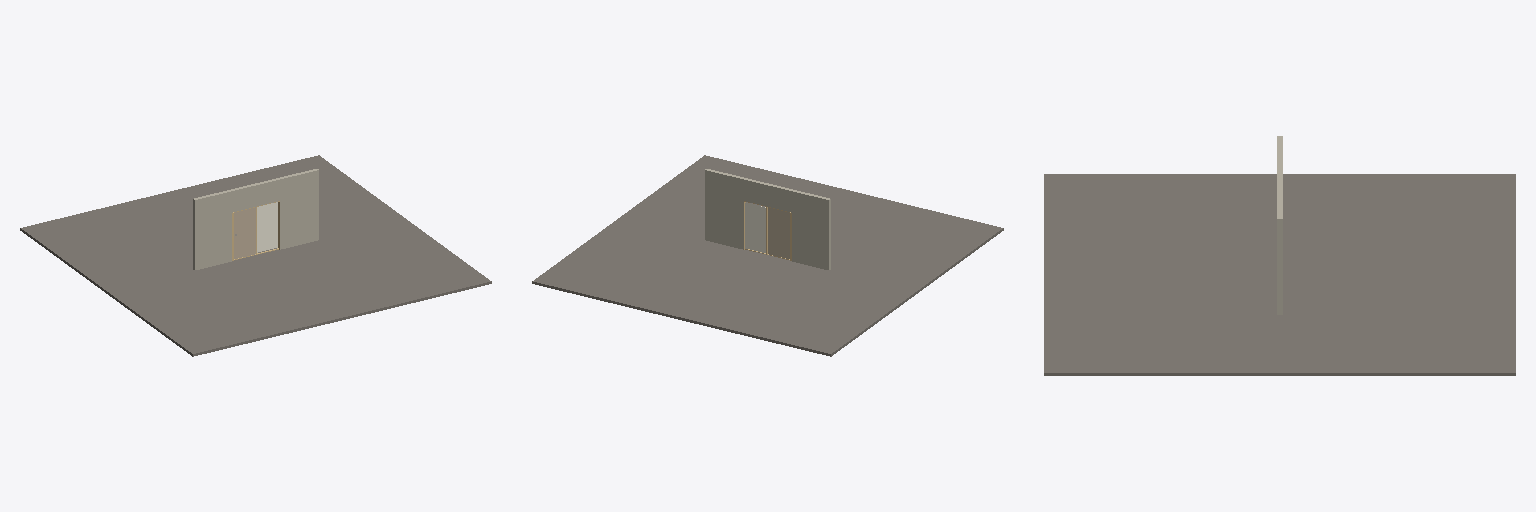
URDF robot description (db0739_sliding_single_simple):
<?xml version="1.0" ?>
<robot xmlns:doorbench="https://github.com/adamraudonis/DoorBench/schema/urdf-ext" name="db0739_sliding_single_simple">
  <link name="world_env">
    <visual name="floor_vis">
      <origin xyz="0 0 -0.05" rpy="0 0 0"/>
      <geometry>
        <box size="12 12 0.1"/>
      </geometry>
      <material name="mat_floor"/>
    </visual>
    <collision name="floor_col">
      <origin xyz="0 0 -0.05" rpy="0 0 0"/>
      <geometry>
        <box size="12 12 0.1"/>
      </geometry>
    </collision>
    <visual name="wall_left_vis">
      <origin xyz="-1.7445 0 1.35" rpy="0 0 0"/>
      <geometry>
        <box size="1.511 0.145 2.7"/>
      </geometry>
      <material name="mat_wall"/>
    </visual>
    <collision name="wall_left_col">
      <origin xyz="-1.7445 0 1.35" rpy="0 0 0"/>
      <geometry>
        <box size="1.511 0.145 2.7"/>
      </geometry>
    </collision>
    <visual name="wall_right_vis">
      <origin xyz="1.7145 0 1.35" rpy="0 0 0"/>
      <geometry>
        <box size="1.571 0.145 2.7"/>
      </geometry>
      <material name="mat_wall"/>
    </visual>
    <collision name="wall_right_col">
      <origin xyz="1.7145 0 1.35" rpy="0 0 0"/>
      <geometry>
        <box size="1.571 0.145 2.7"/>
      </geometry>
    </collision>
    <visual name="wall_header_vis">
      <origin xyz="-0.03 0 2.2895" rpy="0 0 0"/>
      <geometry>
        <box size="1.918 0.145 0.821"/>
      </geometry>
      <material name="mat_wall"/>
    </visual>
    <collision name="wall_header_col">
      <origin xyz="-0.03 0 2.2895" rpy="0 0 0"/>
      <geometry>
        <box size="1.918 0.145 0.821"/>
      </geometry>
    </collision>
    <visual name="jamb_r_vis">
      <origin xyz="0.9195 0 0.93" rpy="0 0 0"/>
      <geometry>
        <box size="0.019 0.145 1.86"/>
      </geometry>
      <material name="mat_frame"/>
    </visual>
    <collision name="jamb_r_col">
      <origin xyz="0.9195 0 0.93" rpy="0 0 0"/>
      <geometry>
        <box size="0.019 0.145 1.86"/>
      </geometry>
    </collision>
    <visual name="jamb_head_vis">
      <origin xyz="0 0 1.8695" rpy="0 0 0"/>
      <geometry>
        <box size="1.858 0.145 0.019"/>
      </geometry>
      <material name="mat_frame"/>
    </visual>
    <collision name="jamb_head_col">
      <origin xyz="0 0 1.8695" rpy="0 0 0"/>
      <geometry>
        <box size="1.858 0.145 0.019"/>
      </geometry>
    </collision>
    <visual name="fixed_panel_glass_vis">
      <origin xyz="0.455 0.04 0.93" rpy="0 0 0"/>
      <geometry>
        <box size="0.87 0.006 1.76"/>
      </geometry>
      <material name="mat_fixed_shoji"/>
    </visual>
    <collision name="fixed_panel_glass_col">
      <origin xyz="0.455 0.04 0.93" rpy="0 0 0"/>
      <geometry>
        <box size="0.87 0.006 1.76"/>
      </geometry>
    </collision>
    <visual name="fixed_panel_stile_vis">
      <origin xyz="0.03 0.04 0.93" rpy="0 0 0"/>
      <geometry>
        <box size="0.06 0.024 1.86"/>
      </geometry>
      <material name="mat_frame"/>
    </visual>
    <collision name="fixed_panel_stile_col">
      <origin xyz="0.03 0.04 0.93" rpy="0 0 0"/>
      <geometry>
        <box size="0.06 0.024 1.86"/>
      </geometry>
    </collision>
    <visual name="shikii_vis">
      <origin xyz="-0.005 0 0.012" rpy="0 0 0"/>
      <geometry>
        <box size="1.9 0.05 0.024"/>
      </geometry>
      <material name="mat_shikii"/>
    </visual>
    <collision name="shikii_col">
      <origin xyz="-0.005 0 0.012" rpy="0 0 0"/>
      <geometry>
        <box size="1.9 0.05 0.024"/>
      </geometry>
    </collision>
    <visual name="kamoi_vis">
      <origin xyz="-0.005 0 1.89" rpy="0 0 0"/>
      <geometry>
        <box size="1.9 0.05 0.06"/>
      </geometry>
      <material name="mat_shikii"/>
    </visual>
    <collision name="kamoi_col">
      <origin xyz="-0.005 0 1.89" rpy="0 0 0"/>
      <geometry>
        <box size="1.9 0.05 0.06"/>
      </geometry>
    </collision>
    <visual name="jamb_latch_0_vis">
      <origin xyz="-0.9495 0 0.93" rpy="0 0 0"/>
      <geometry>
        <box size="0.079 0.145 1.86"/>
      </geometry>
      <material name="mat_frame"/>
    </visual>
    <collision name="jamb_latch_0_col">
      <origin xyz="-0.9495 0 0.93" rpy="0 0 0"/>
      <geometry>
        <box size="0.079 0.145 1.86"/>
      </geometry>
    </collision>
  </link>
  <link name="leaf">
    <inertial>
      <origin xyz="-0.000046 -0.000002 0.927003" rpy="0 0 0"/>
      <mass value="39.08"/>
      <inertia ixx="10.553181906" ixy="-0.000028036" ixz="0.000041602" iyy="13.188463096" iyz="0.000001791" izz="2.641144851"/>
    </inertial>
    <visual name="leaf_slab_vis">
      <origin xyz="0 0 0.927" rpy="0 0 0"/>
      <geometry>
        <box size="0.9 0.03 1.8"/>
      </geometry>
      <material name="mat_leaf"/>
    </visual>
    <collision name="leaf_slab_col">
      <origin xyz="0 0 0.927" rpy="0 0 0"/>
      <geometry>
        <box size="0.9 0.03 1.8"/>
      </geometry>
    </collision>
    <visual name="leaf_pull_n_vis">
      <origin xyz="-0.36 -0.0155 0.95" rpy="0 0 0"/>
      <geometry>
        <box size="0.05 0.001 0.1"/>
      </geometry>
      <material name="mat_op_nickel_satin"/>
    </visual>
  </link>
  <joint name="leaf_slide" type="prismatic">
    <origin xyz="-0.455 0 0" rpy="0 0 0"/>
    <parent link="world_env"/>
    <child link="leaf"/>
    <axis xyz="1 0 0"/>
    <limit lower="0" upper="0.9" effort="5000" velocity="10"/>
    <dynamics damping="3.954" friction="38.324388"/>
  </joint>
  <material name="mat_fixed_shoji">
    <color rgba="0.98 0.96 0.9 0.45"/>
  </material>
  <material name="mat_floor">
    <color rgba="0.55 0.53 0.5 1"/>
  </material>
  <material name="mat_frame">
    <color rgba="0.88 0.78 0.6 1"/>
  </material>
  <material name="mat_leaf">
    <color rgba="0.806 0.75 0.666 1"/>
  </material>
  <material name="mat_op_nickel_satin">
    <color rgba="0.72 0.7 0.66 1"/>
  </material>
  <material name="mat_shikii">
    <color rgba="0.88 0.78 0.6 1"/>
  </material>
  <material name="mat_wall">
    <color rgba="0.78 0.76 0.7 1"/>
  </material>
</robot>

--- Render facts (derived) ---
3 views of the same robot in one strip: view 1: azimuth 30°, elevation 25°; view 2: azimuth 150°, elevation 25°; view 3: azimuth 270°, elevation 25° (orthographic).
Model db0739_sliding_single_simple with 2 links and 1 joints (1 prismatic), rooted at world_env, posed all joints at 0.
Visible links, largest first — view 1: world_env, leaf; view 2: world_env, leaf; view 3: world_env.
Boxes of the visible links, left/top/right/bottom form: world_env: left=20, top=155, right=491, bottom=356; leaf: left=234, top=207, right=255, bottom=258; world_env: left=532, top=155, right=1003, bottom=356; leaf: left=768, top=207, right=789, bottom=258; world_env: left=1044, top=136, right=1515, bottom=375.
Bounding box of the posed robot: 12 × 12 × 2.8 m (x, y, z).
Geometry: primitives only (box / cylinder / sphere), no mesh files.
